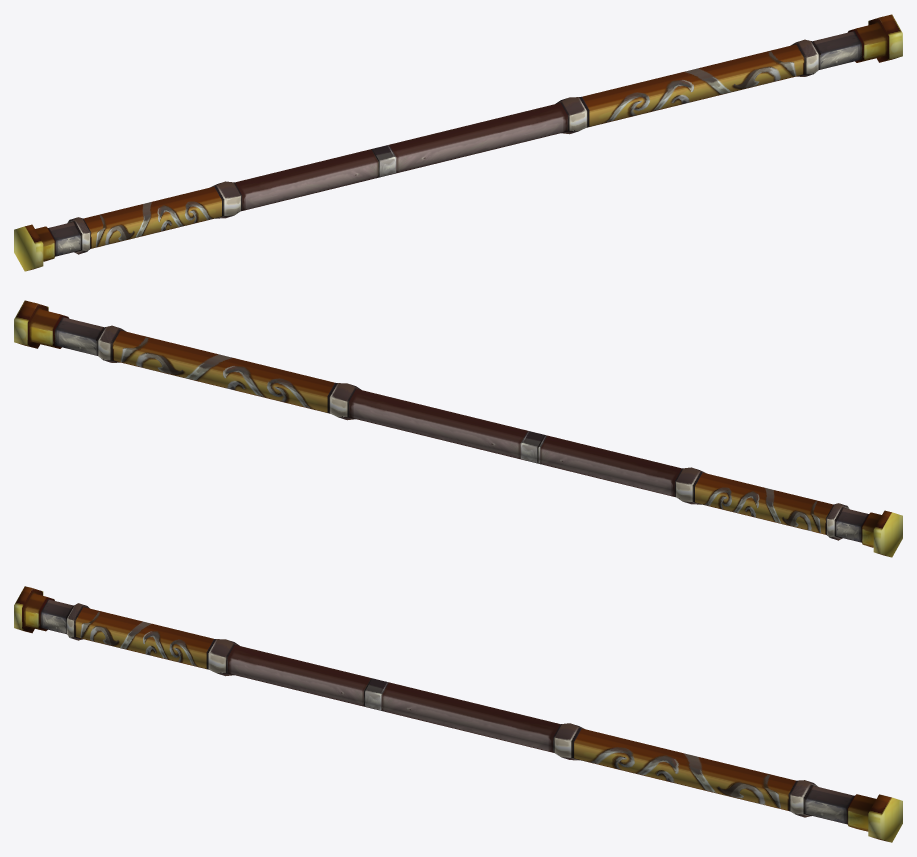
Rendered from Gun_001_001.FBX.
The picture shows the model from 3 angles, top to bottom: view 1: azimuth 30°, elevation 25°; view 2: azimuth 150°, elevation 25°; view 3: azimuth 330°, elevation 25°; orthographic projection.
Visible parts, largest first — view 1: Gun_001_001; view 2: Gun_001_001; view 3: Gun_001_001.
Part boxes in pixels (left/top/right/bottom): Gun_001_001: left=14, top=14, right=902, bottom=271; Gun_001_001: left=14, top=300, right=902, bottom=557; Gun_001_001: left=14, top=586, right=902, bottom=842.
Bounding box in the file's own units: 202 × 10.15 × 8.73.
